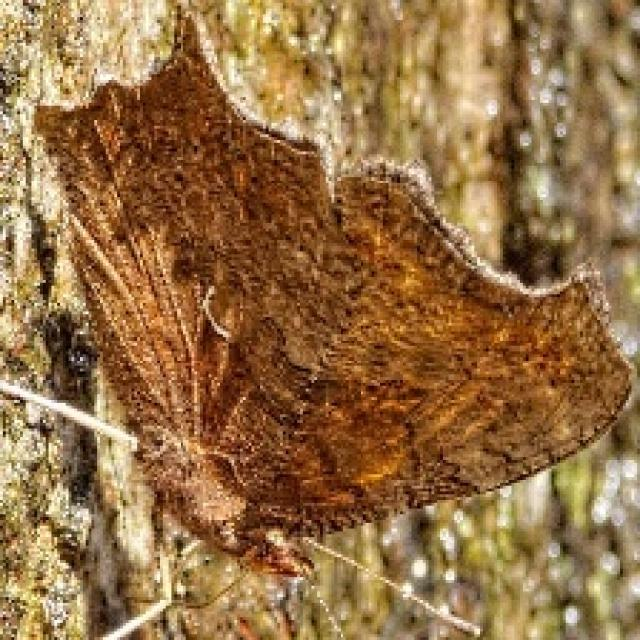butterfly: (9, 3, 637, 580)
